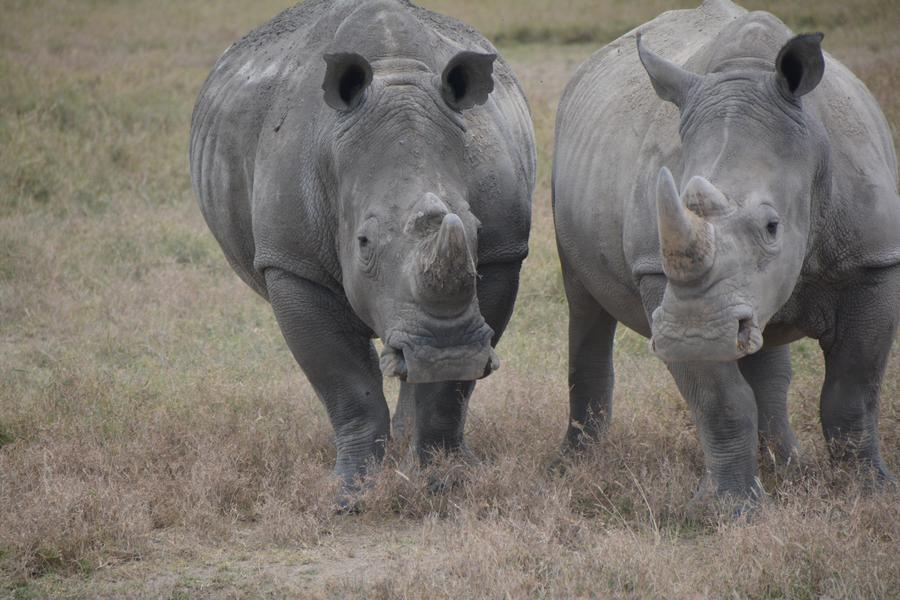rhino: (199, 8, 515, 446), (569, 28, 858, 448)
